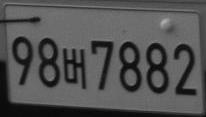2: (172, 42, 196, 96)
7: (90, 39, 114, 90)
8: (144, 41, 170, 94), (36, 36, 61, 88), (118, 40, 142, 92)
9: (11, 35, 33, 85)
버: (62, 48, 87, 89)
